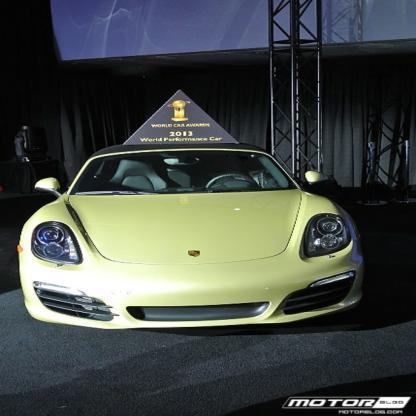Car: (18, 144, 366, 330)
